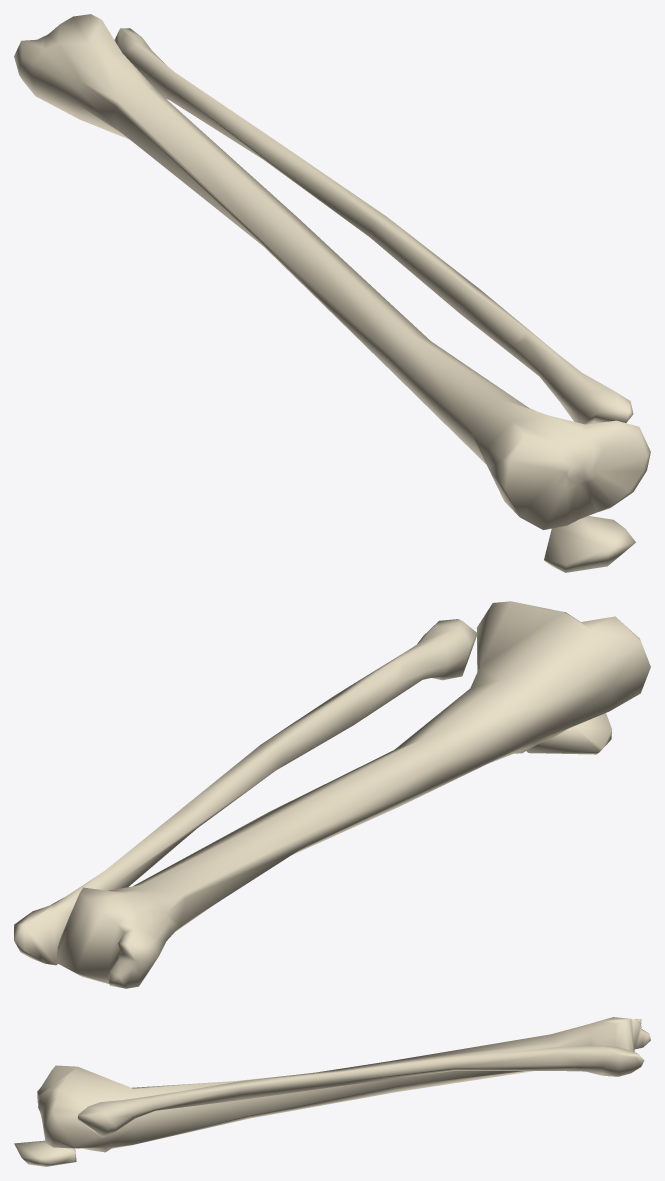
File: 左小腿.obj
3 renders of one model, top to bottom at view 1: azimuth 30°, elevation 25°; view 2: azimuth 150°, elevation 25°; view 3: azimuth 270°, elevation 25°, orthographic. The views are drawn at different scales.
Bounding box in the file's own units: 0.0376 × 0.0424 × 0.1824.
